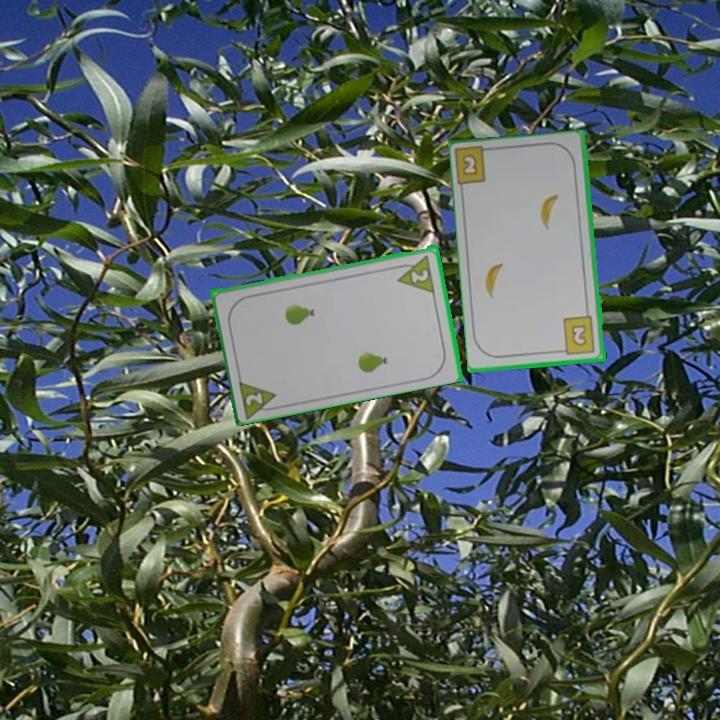2b: (556, 313, 598, 358), (459, 151, 481, 179)
2p: (235, 375, 283, 419), (392, 251, 438, 295)
